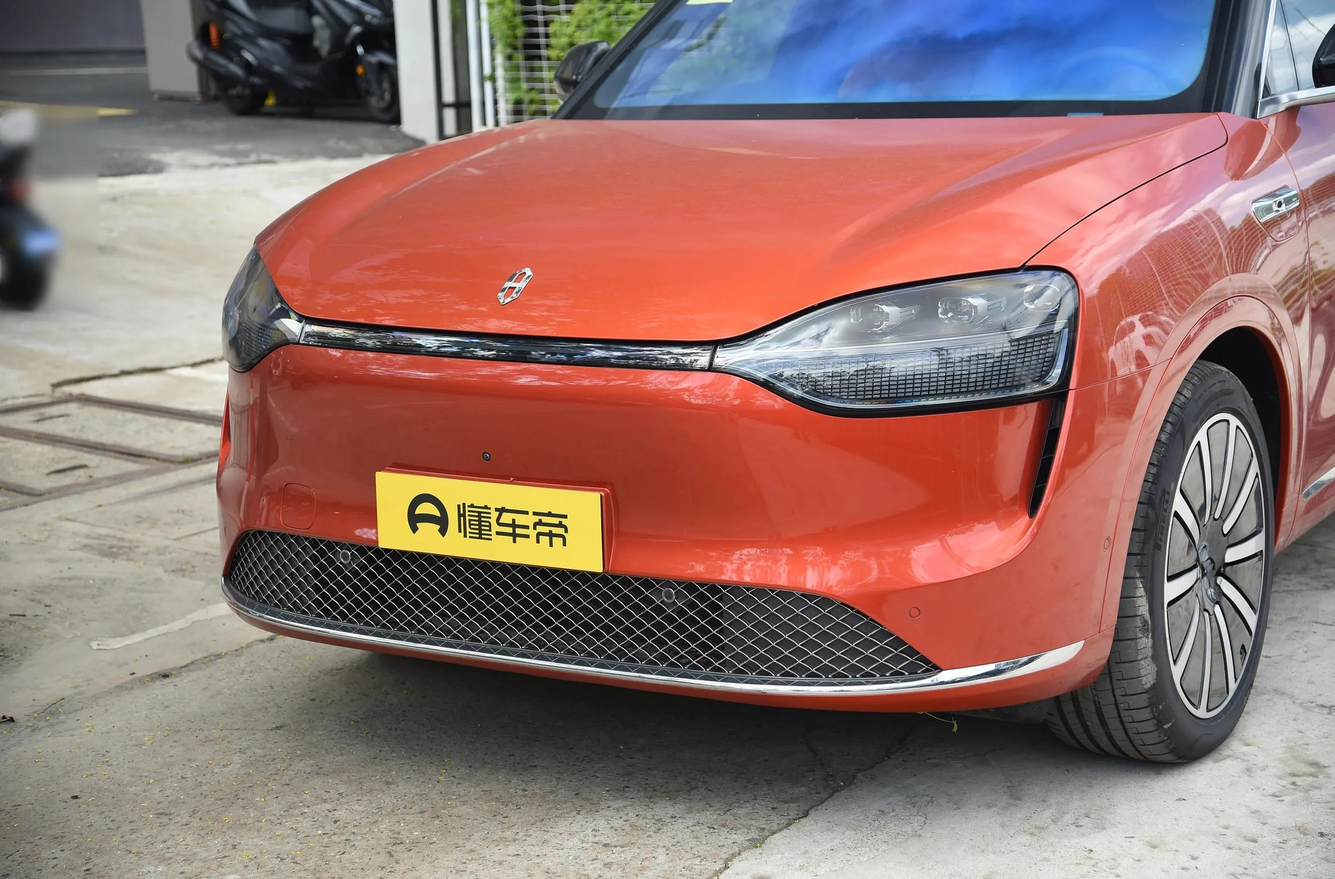AITO: (497, 268, 533, 304)
